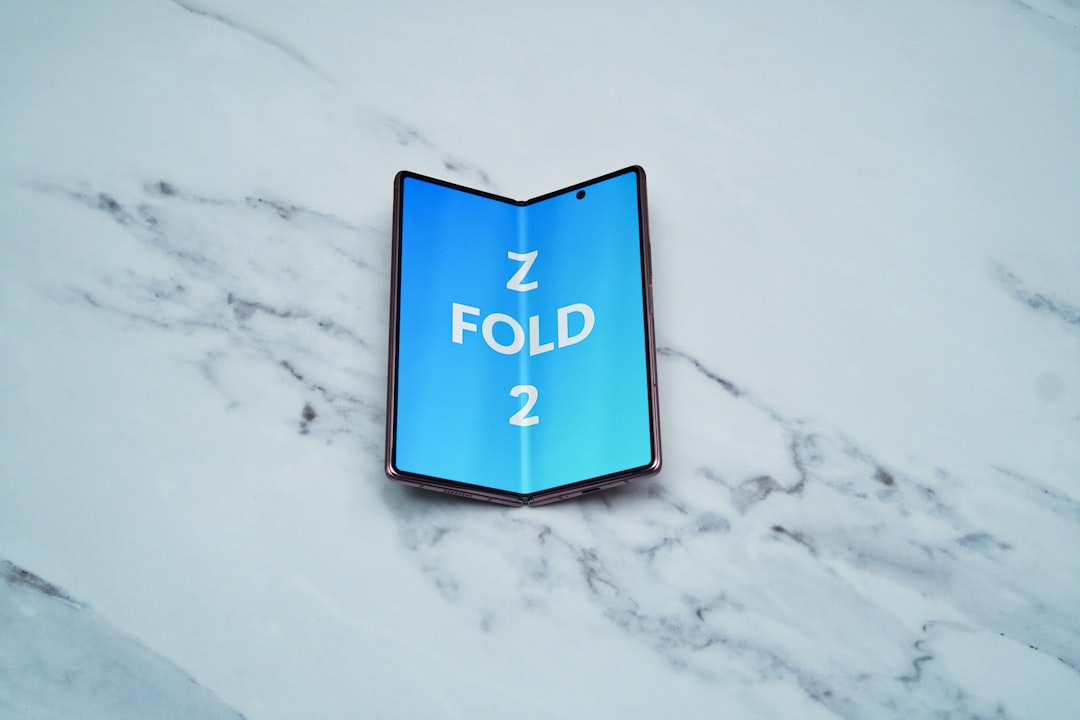phone: (379, 158, 669, 506)
